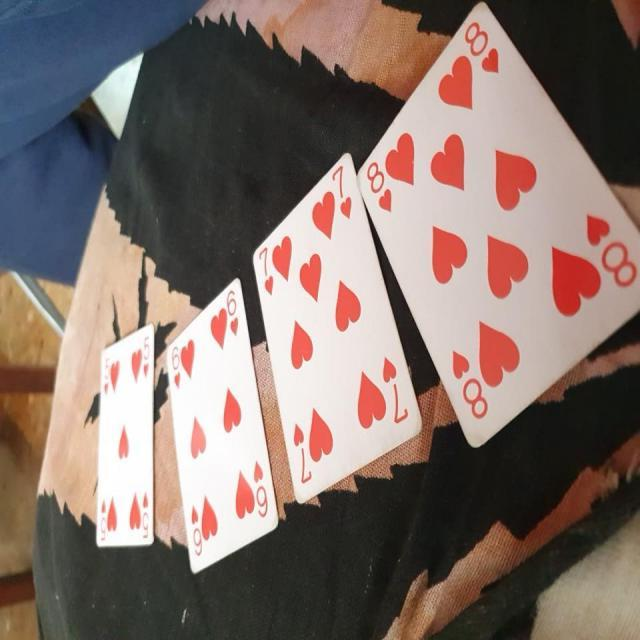5 of hearts: (88, 318, 160, 556)
6 of hearts: (161, 270, 282, 585)
7 of hearts: (248, 142, 428, 507)
8 of hearts: (350, 9, 640, 456)
